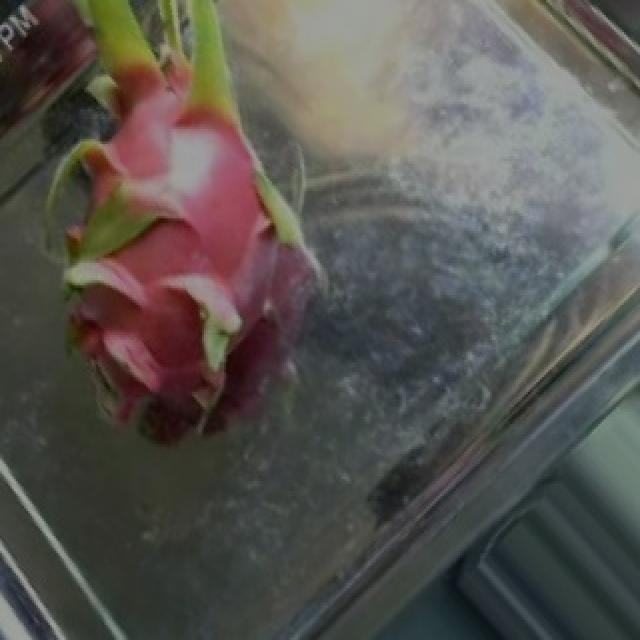fruit: (0, 2, 392, 432)
